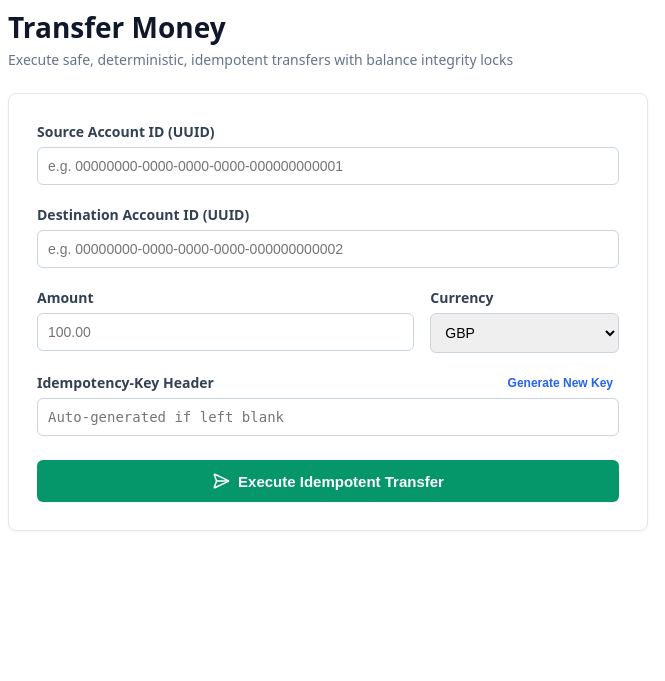
Test: Domain Pages › TransferPage attaches Idempotency-Key on execution
Type "acc-1" into the field with placeholder "e.g. 00000000-0000-0000-0000-000000000001".
click(328, 166); type("acc-1")  # box [37,147,619,185]
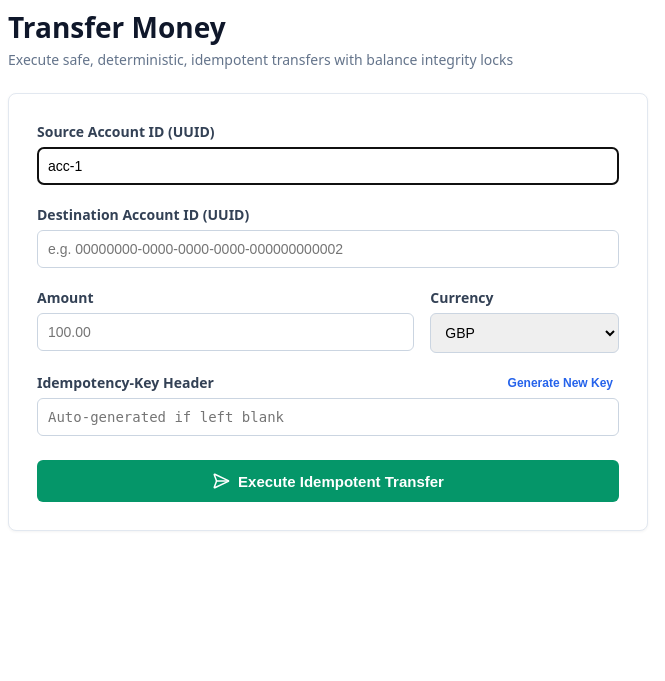
Type "acc-2" into the field with placeholder "e.g. 00000000-0000-0000-0000-000000000002".
click(328, 249); type("acc-2")  # box [37,230,619,268]
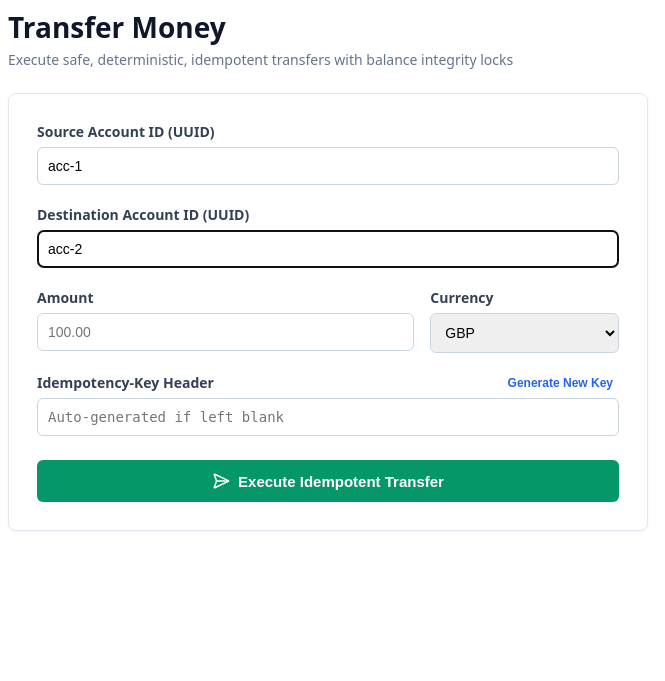
Type "50.00" into the field with placeholder "100.00".
click(226, 332); type("50.00")  # box [37,313,414,351]
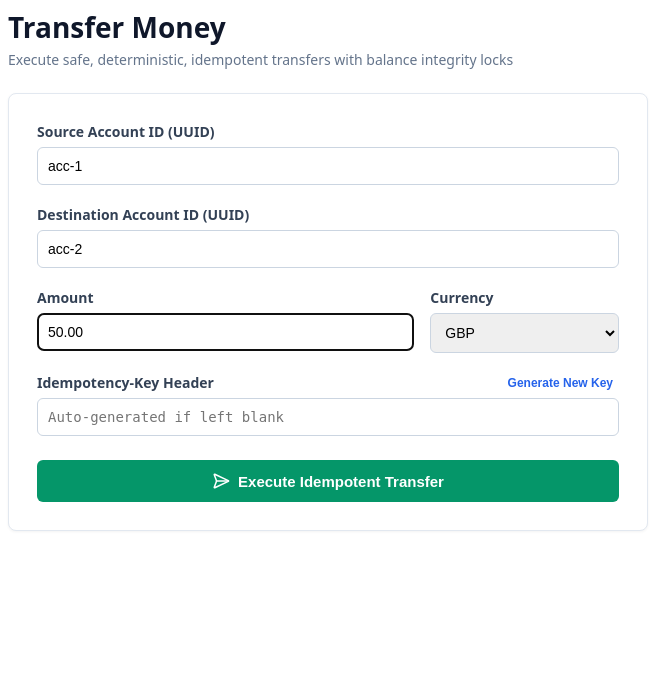
Click the button with test id "submit-transfer-button".
click(328, 481)  # box [37,460,619,502]
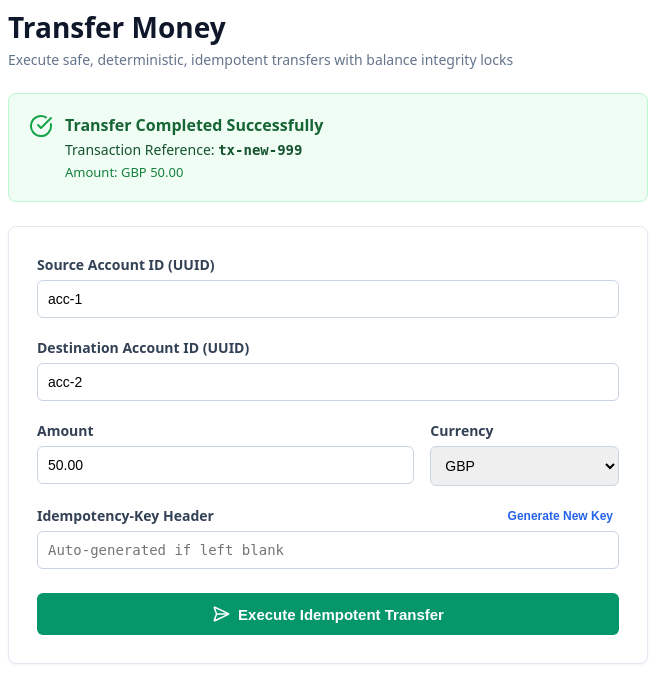
Now the element with test id "transfer-success-banner" is shown, box [8,93,648,202]
